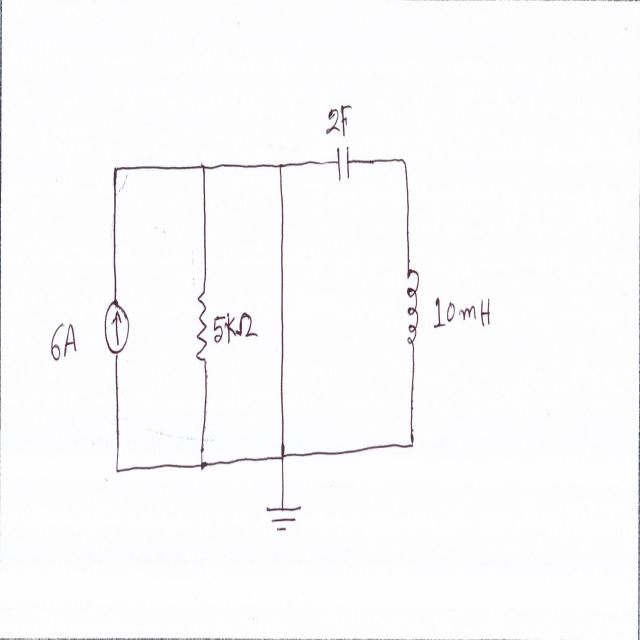capacitor: (334, 142, 352, 188)
current_source: (102, 290, 132, 360)
ground: (265, 496, 303, 540)
inductor: (404, 262, 422, 355)
resistor: (194, 280, 210, 364)
